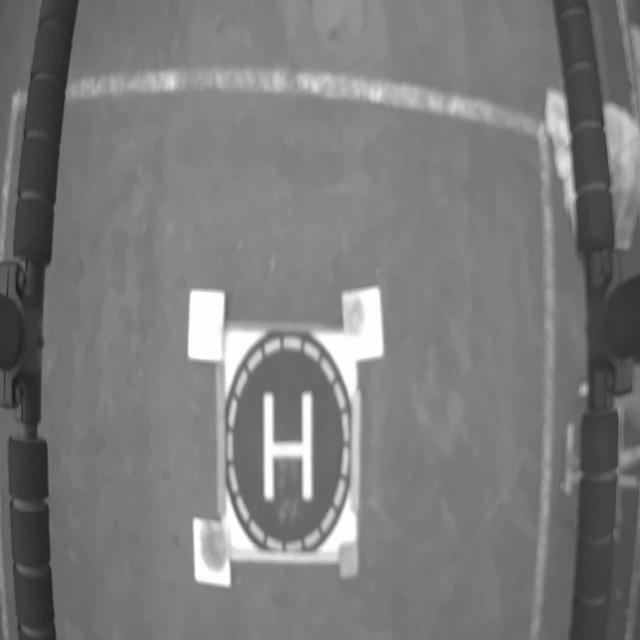Helipad: (262, 392, 312, 501)
